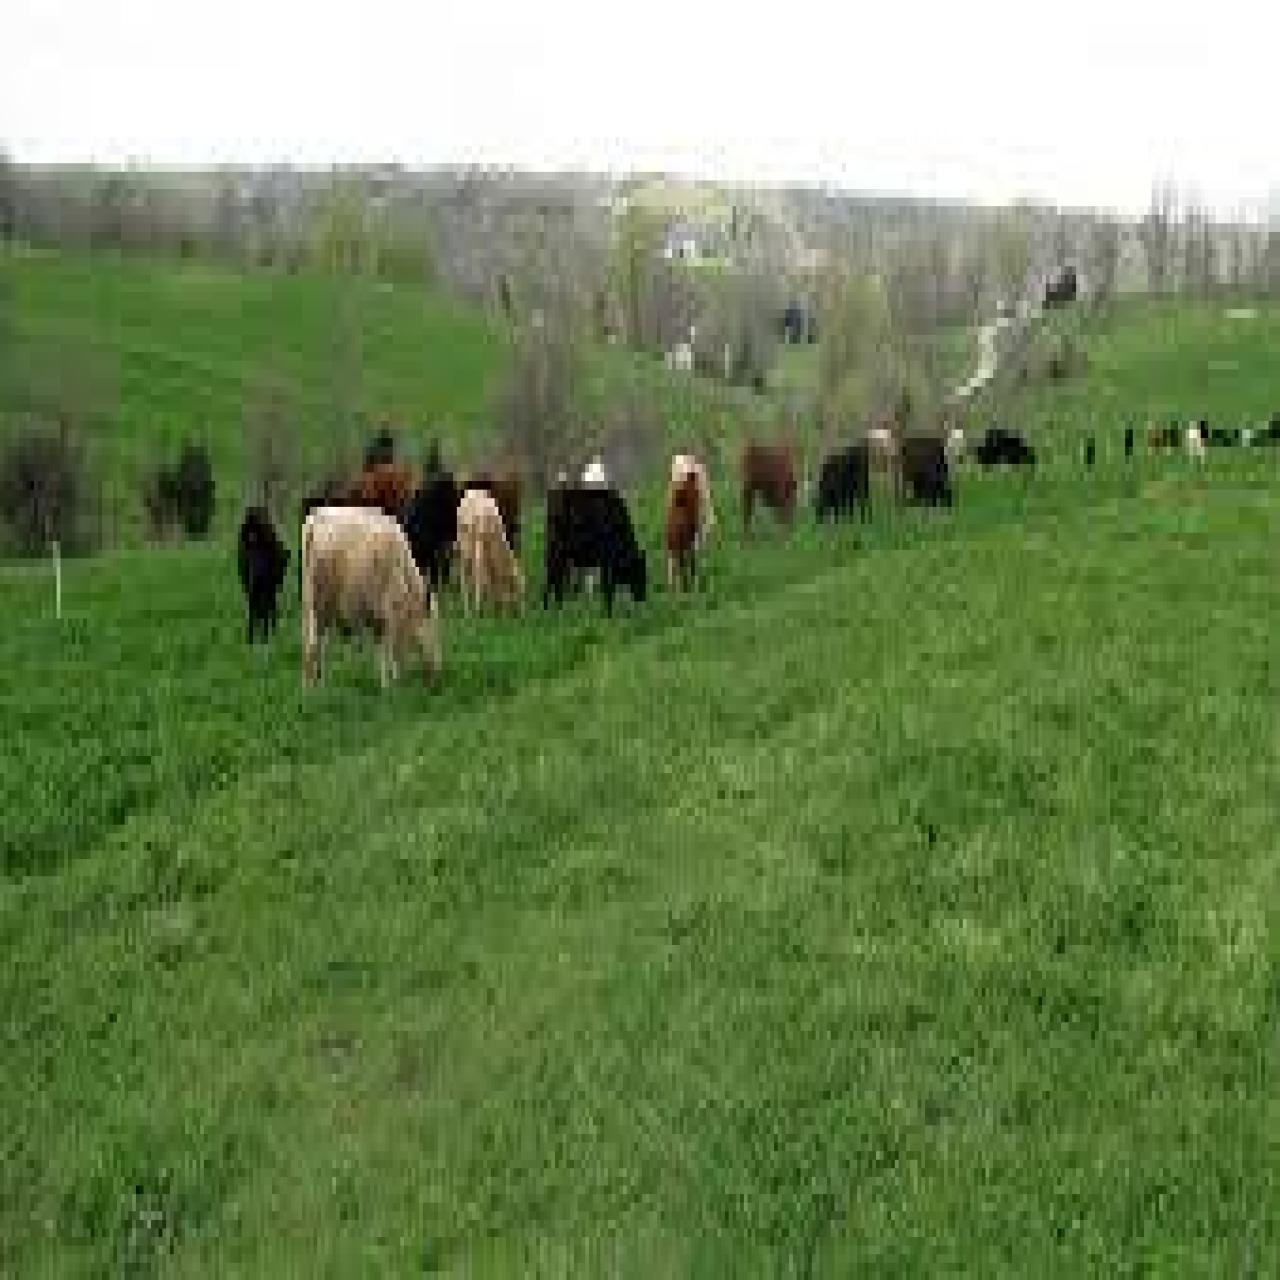cow: (302, 506, 445, 704), (544, 485, 649, 622), (455, 490, 526, 627), (232, 495, 293, 648), (660, 447, 714, 601), (402, 464, 458, 601), (736, 438, 801, 542), (810, 442, 874, 537), (667, 464, 704, 593), (897, 425, 953, 511), (353, 456, 414, 516)
